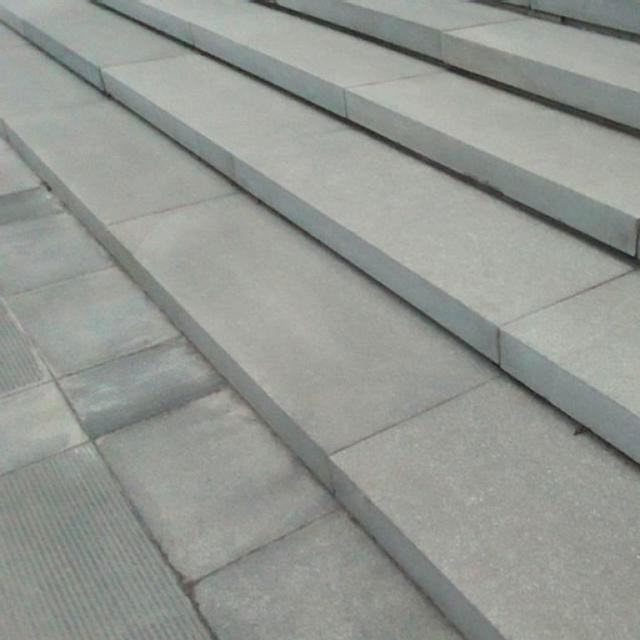stair: (126, 0, 640, 598)
